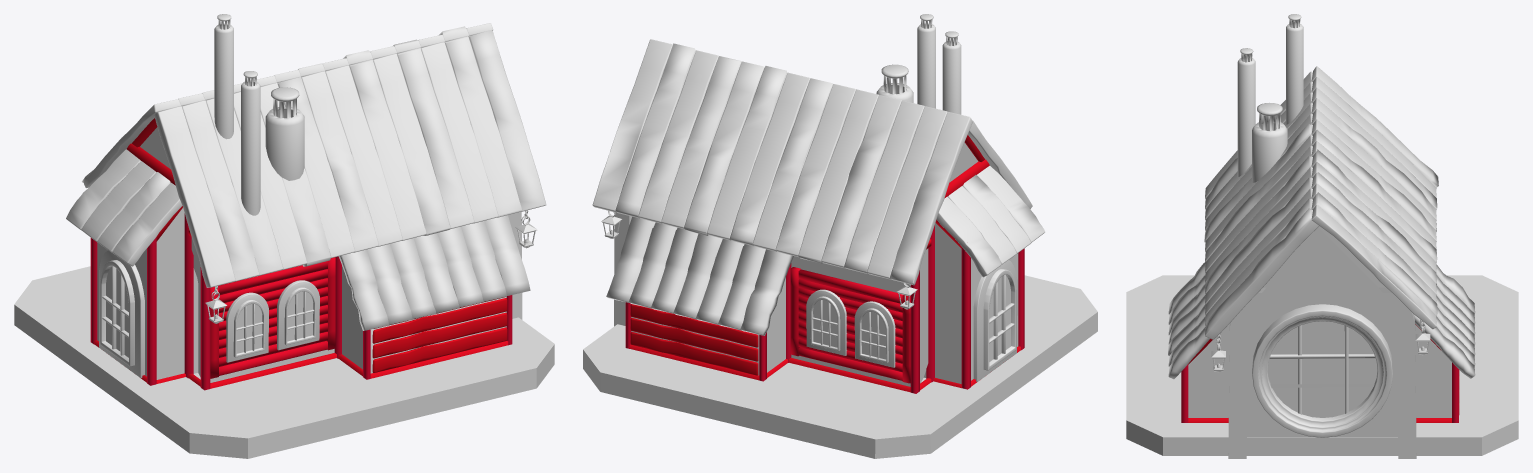
The model's file is House.fbx.
3 views of the same model, side by side, from view 1: azimuth 30°, elevation 25°; view 2: azimuth 150°, elevation 25°; view 3: azimuth 270°, elevation 25° (orthographic). The views are drawn at different scales.
Parts seen in each view (by area): view 1: House; view 2: House; view 3: House.
Part boxes in pixels (x1=…): House: x1=14, y1=14, x2=554, y2=458; House: x1=583, y1=14, x2=1097, y2=458; House: x1=1126, y1=14, x2=1518, y2=458.
Size of the model in its own units: 1427 by 1255 by 1367.
